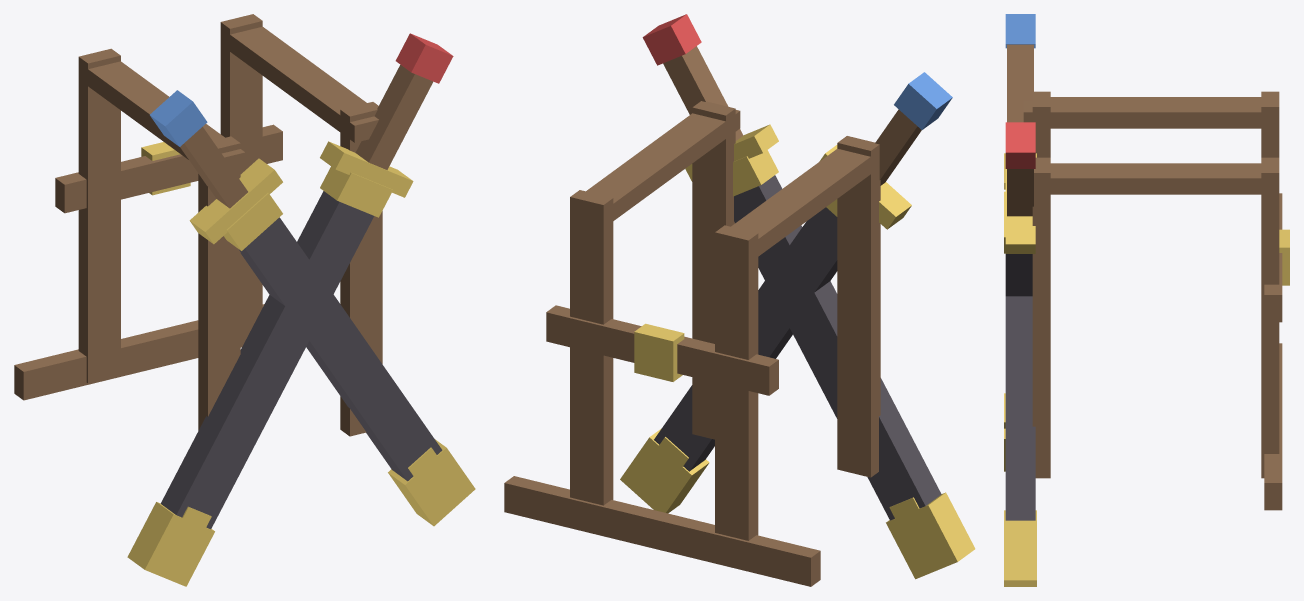
File: bainhas_duas_espadas_cruzadas.glb
3 views of the same model, side by side, from view 1: azimuth 30°, elevation 25°; view 2: azimuth 150°, elevation 25°; view 3: azimuth 270°, elevation 25° (orthographic). The views are drawn at different scales.
Parts seen in each view (by area): view 1: bainhas_duas_espadas_cruzadas; view 2: bainhas_duas_espadas_cruzadas; view 3: bainhas_duas_espadas_cruzadas.
Part boxes in pixels (<box>): bainhas_duas_espadas_cruzadas: <box>14,14,475,586</box>; bainhas_duas_espadas_cruzadas: <box>504,14,975,586</box>; bainhas_duas_espadas_cruzadas: <box>1004,14,1289,586</box>.
Size of the model in its own units: 0.6062 by 0.8454 by 0.475.
